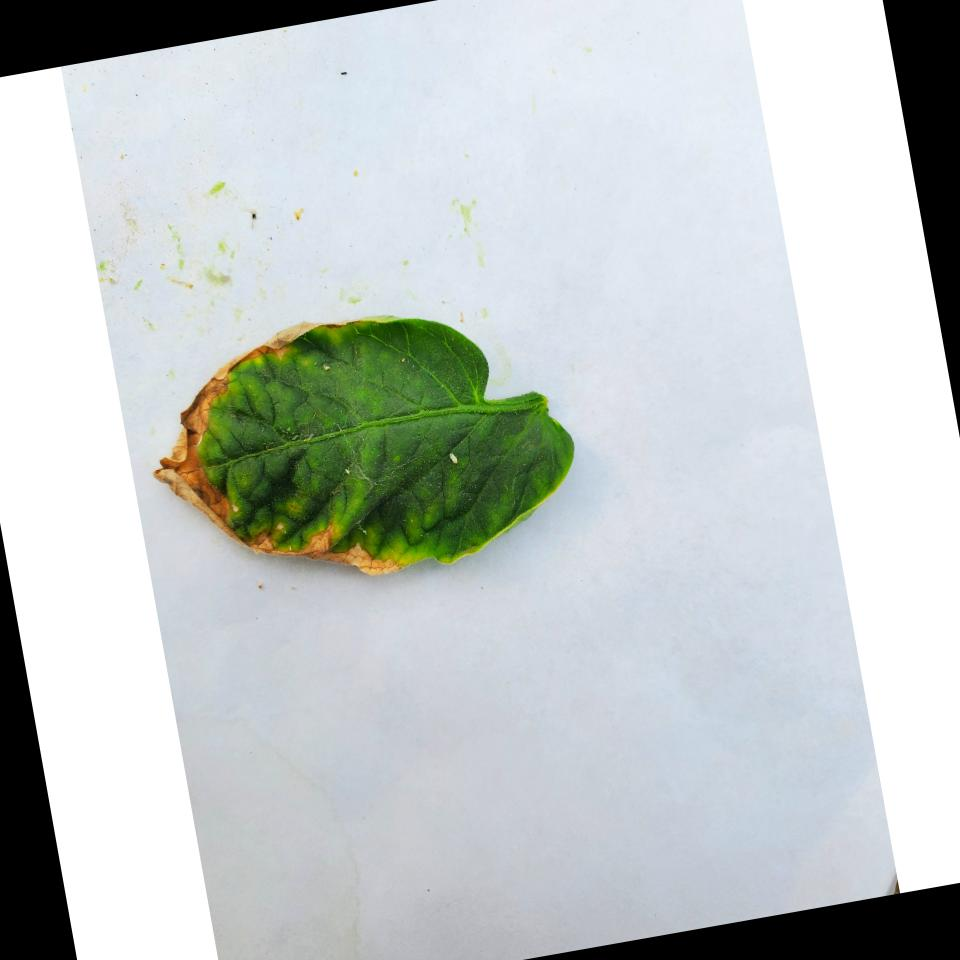tomato_bacterial_blight: (132, 298, 596, 612)
